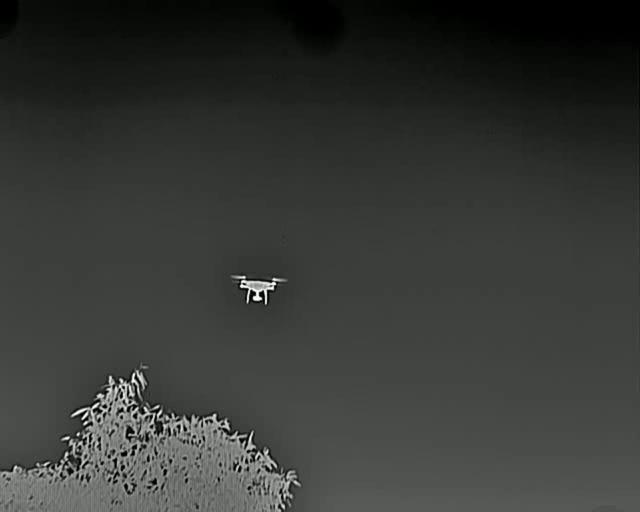DJI-Phantom: (228, 270, 287, 313)
